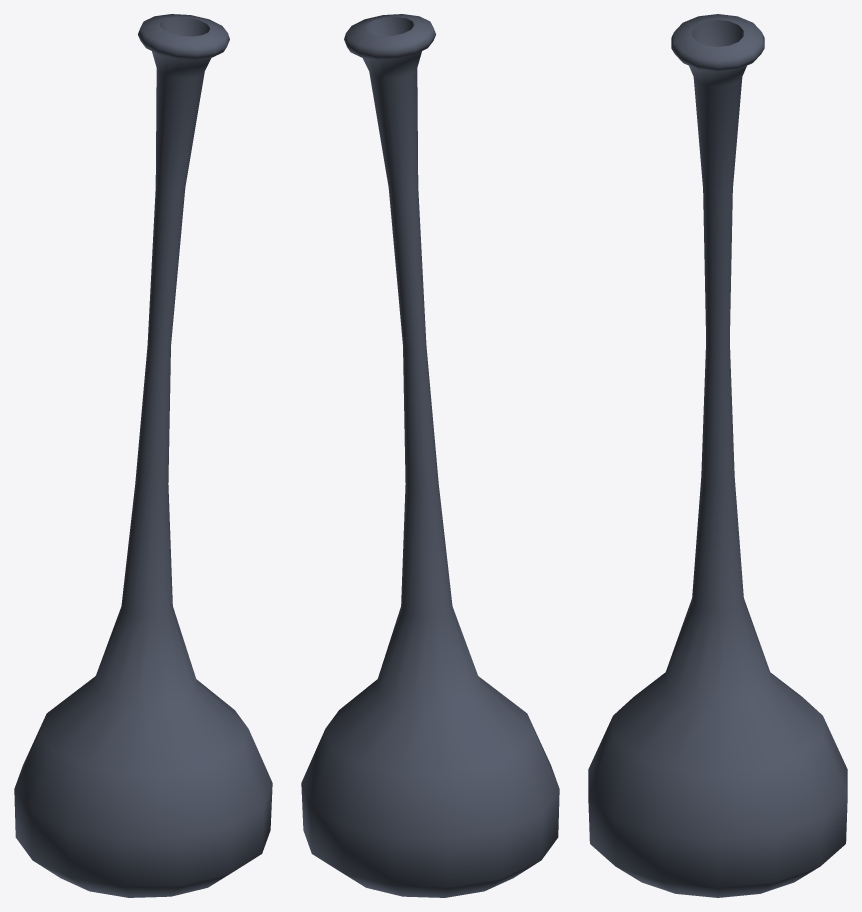
File: Vase.FBX
3 renders of one model, left to right at view 1: azimuth 30°, elevation 25°; view 2: azimuth 150°, elevation 25°; view 3: azimuth 270°, elevation 25°, orthographic. The views are drawn at different scales.
Visible parts, largest first — view 1: Vase; view 2: Vase; view 3: Vase.
Boxes of the visible parts, x1,y1,x2,y2 form: Vase: (14,14,272,897); Vase: (301,14,559,897); Vase: (588,14,847,897).
Bounding box in the file's own units: 51.68 × 182 × 50.39.
